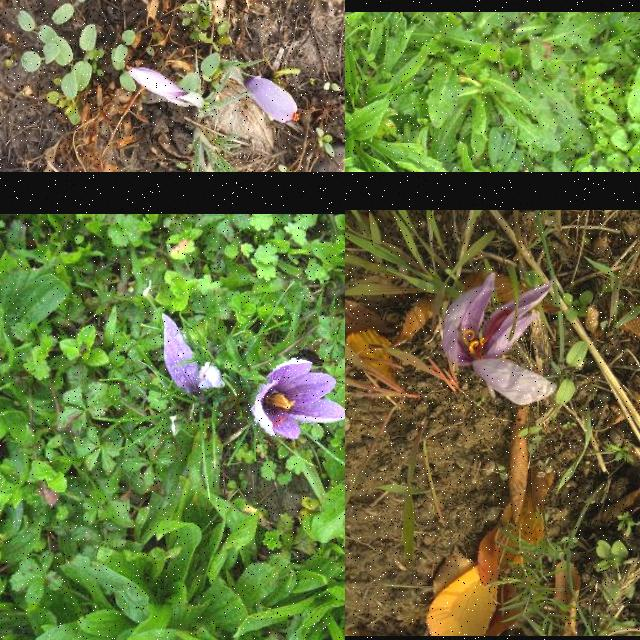flower: (442, 272, 554, 406), (253, 358, 345, 440), (238, 74, 300, 124), (126, 68, 200, 108)
